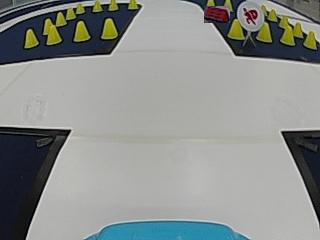thief: (236, 0, 264, 30)
